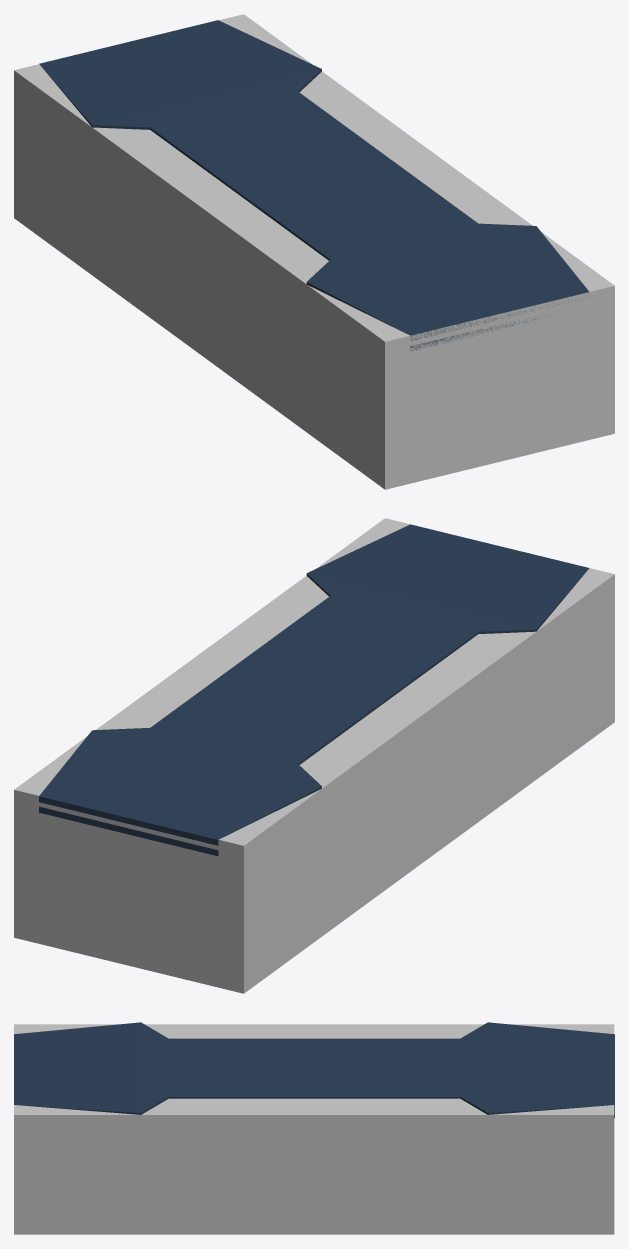
The model's file is SM_Table_09.fbx.
3 renders of one model, top to bottom at view 1: azimuth 30°, elevation 25°; view 2: azimuth 150°, elevation 25°; view 3: azimuth 270°, elevation 25°, orthographic. The views are drawn at different scales.
Parts seen in each view (by area): view 1: SM_Table_09_ConvexHulls, SM_Table_09; view 2: SM_Table_09_ConvexHulls, SM_Table_09; view 3: SM_Table_09_ConvexHulls, SM_Table_09.
Part boxes in pixels (x1,y1,x2,y2): SM_Table_09_ConvexHulls: [14, 14, 614, 489]; SM_Table_09: [39, 20, 589, 350]; SM_Table_09_ConvexHulls: [14, 518, 614, 993]; SM_Table_09: [39, 524, 589, 856]; SM_Table_09_ConvexHulls: [14, 1024, 614, 1234]; SM_Table_09: [14, 1022, 614, 1118].
Size of the model in its own units: 136 by 381 by 85.09.
